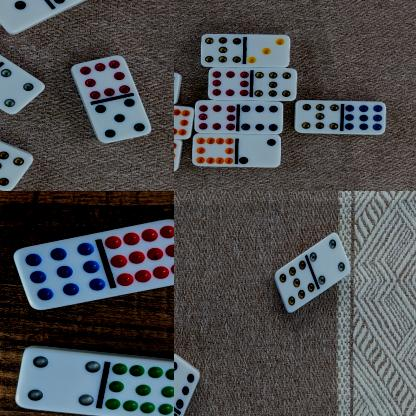pip-1: (0, 0, 47, 34)
pip-10: (191, 133, 237, 168), (174, 104, 194, 139)
pip-11: (103, 361, 174, 416)
pip-12: (103, 218, 174, 293)
pip-2: (236, 134, 280, 168)
pip-3: (244, 35, 290, 67)
pip-4: (14, 347, 102, 415), (310, 233, 350, 286), (0, 68, 43, 115)
pip-5: (91, 99, 150, 144)
pip-6: (238, 100, 282, 135), (174, 354, 199, 410)
pip-7: (274, 259, 314, 315), (294, 101, 342, 134), (250, 69, 297, 102), (0, 145, 32, 191), (200, 34, 244, 67)
pip-8: (70, 57, 131, 100), (194, 100, 238, 134), (207, 67, 251, 100)
pip-9: (13, 243, 105, 310), (342, 101, 386, 135)
